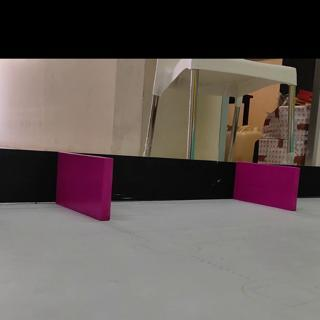xparking: (57, 159, 111, 217), (239, 167, 298, 208)
